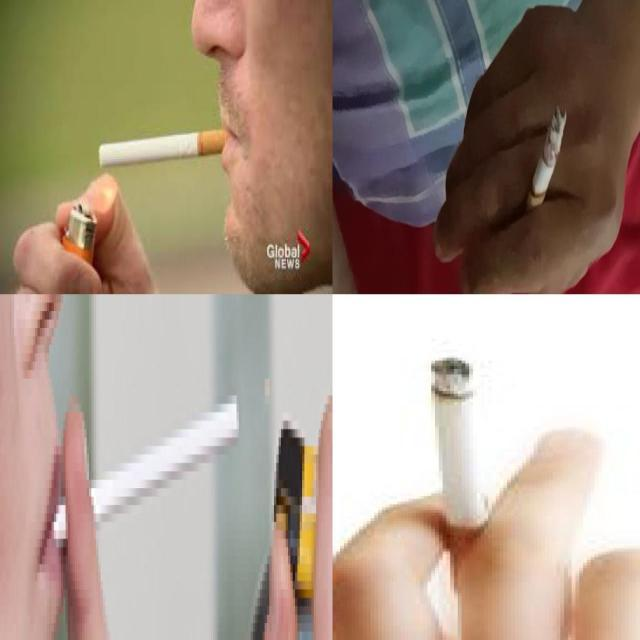smoking: (50, 398, 238, 542), (428, 358, 490, 594), (99, 128, 235, 170), (522, 109, 568, 227)
